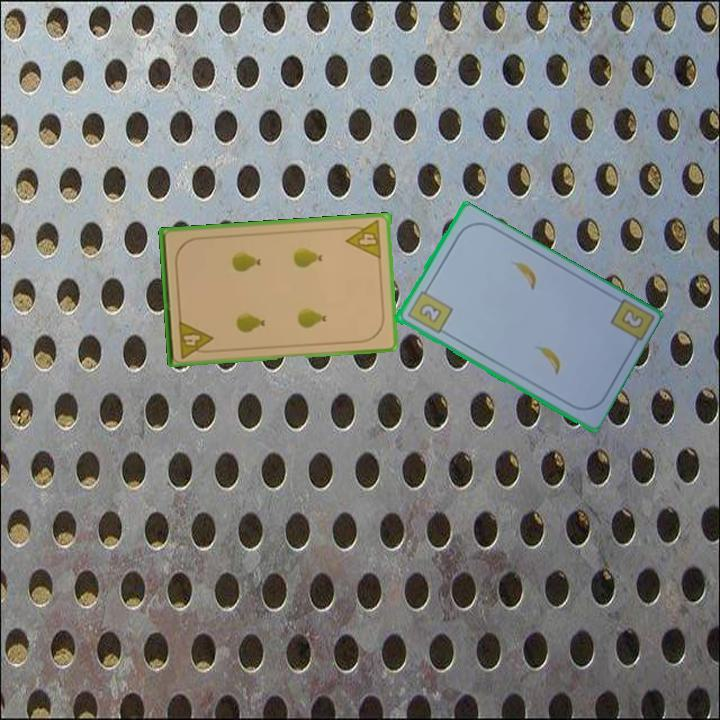2b: (403, 283, 455, 336), (620, 308, 644, 330)
4p: (343, 217, 385, 262), (175, 316, 216, 361)
